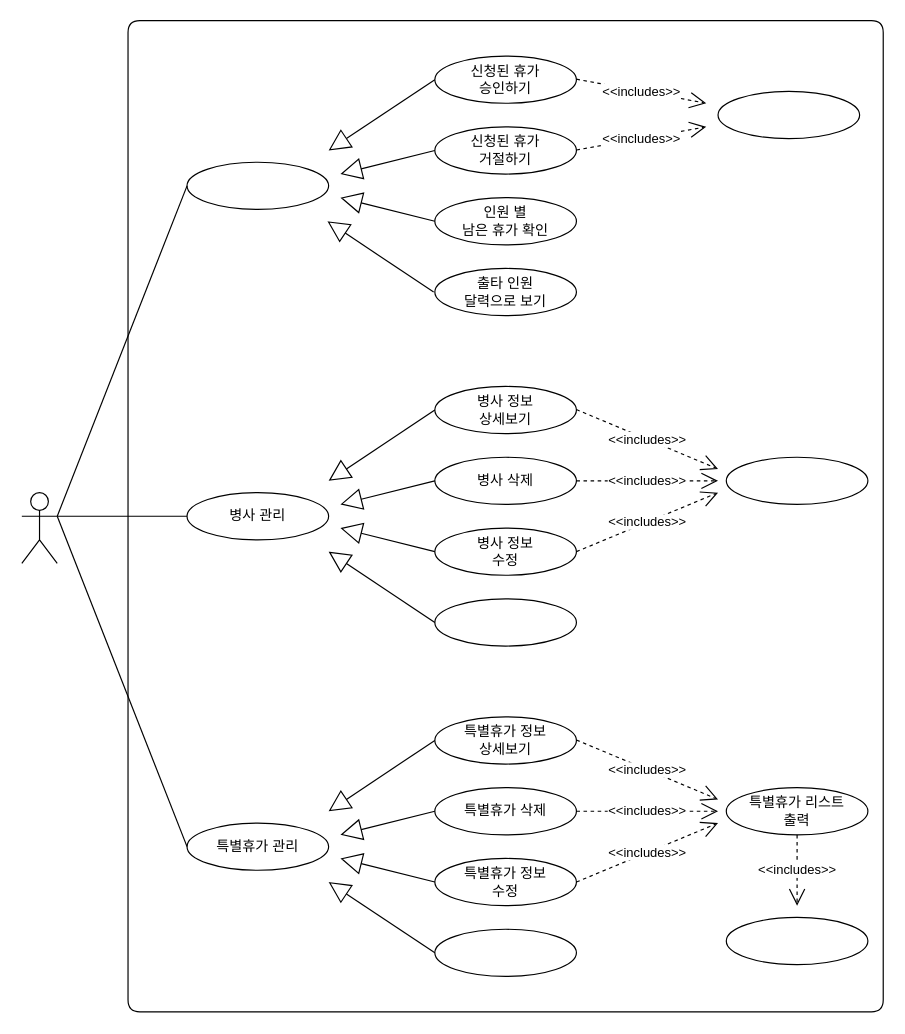
Image size: 905x1034. Some labels were removed from this diagram. Here are the shapes that lost their labels. From the top down, the centre of each, then its label:
(788,114): 휴가 신청 대기목록 출력
(257,185): 휴가 관리
(796,480): 병사 리스트 출력
(39,527): 관리자
(505,622): 병사 추가
(505,952): 특별휴가 추가
(796,940): 특별휴가 수정할 병사 선택
